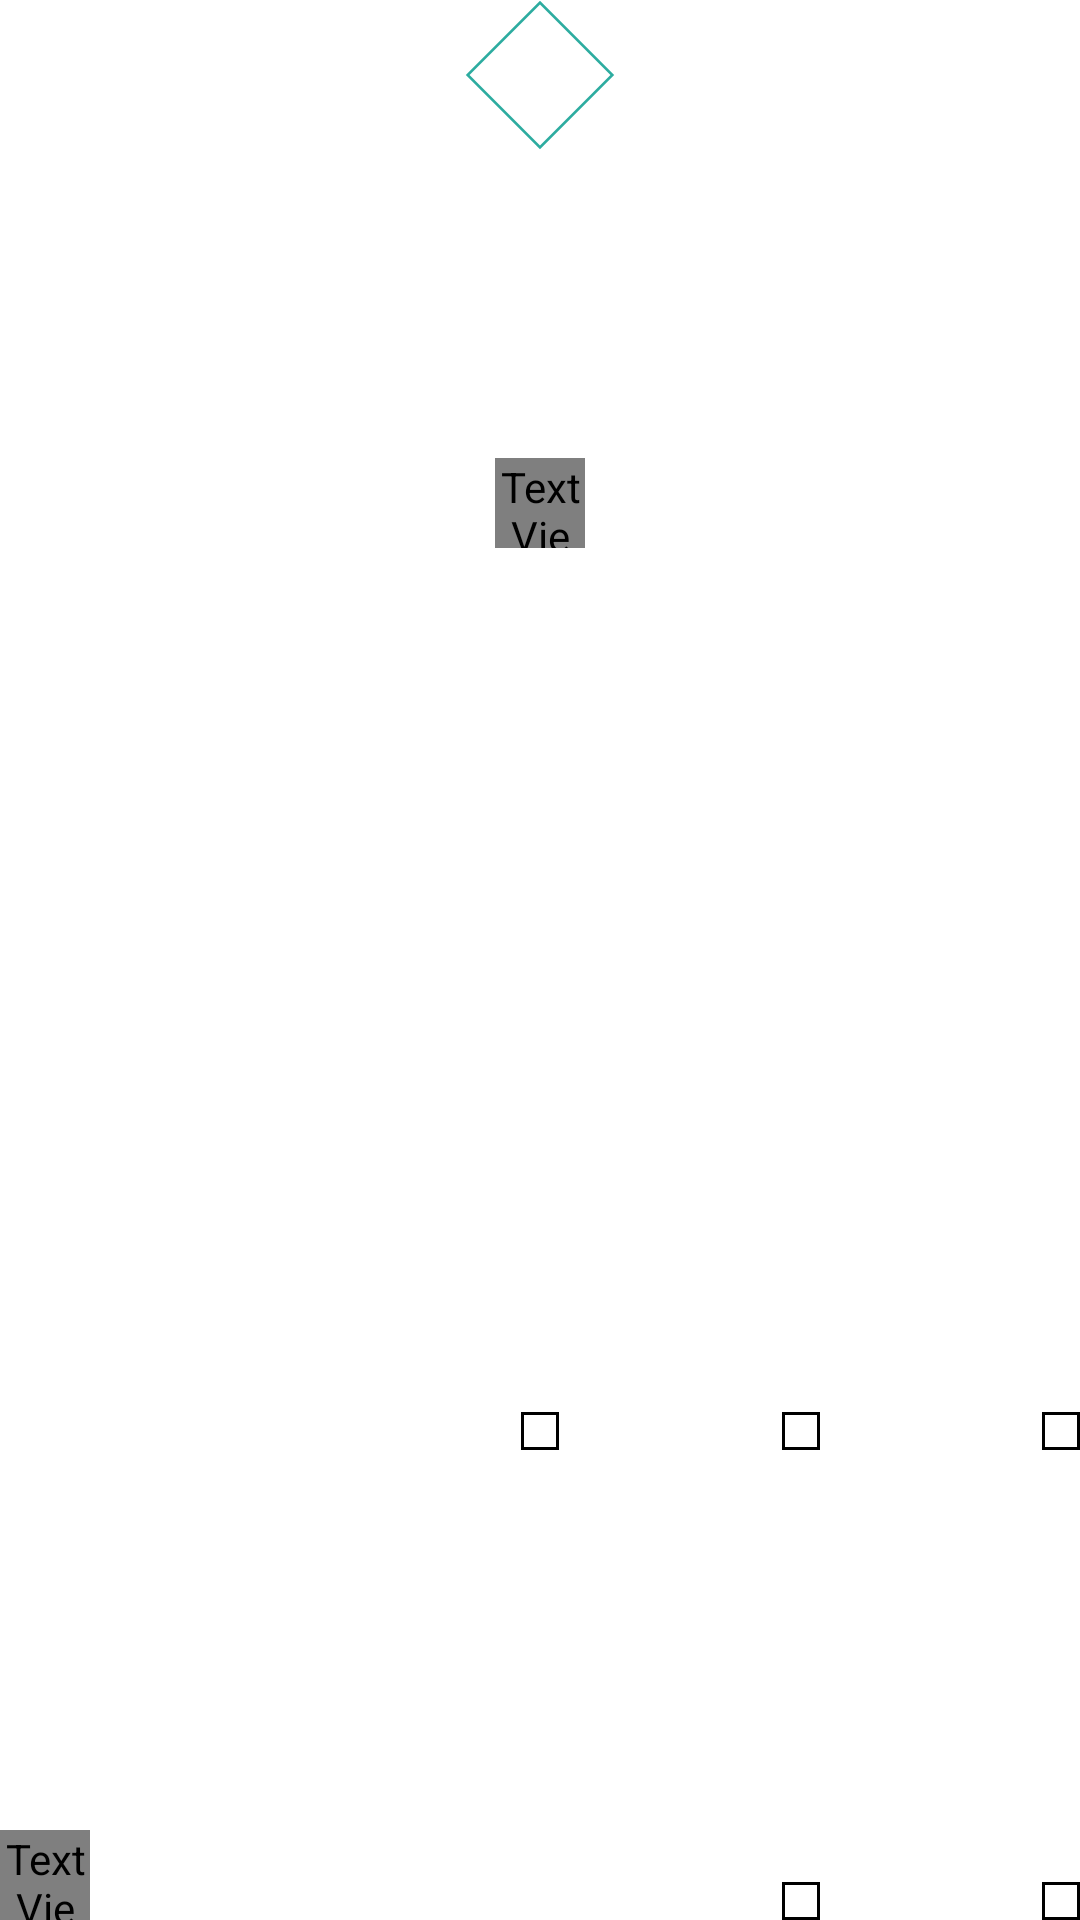

Point at icon controls on the screen. Image size 1080*1920, points as (x=x, y=y).
diamond: (x=540, y=75)
